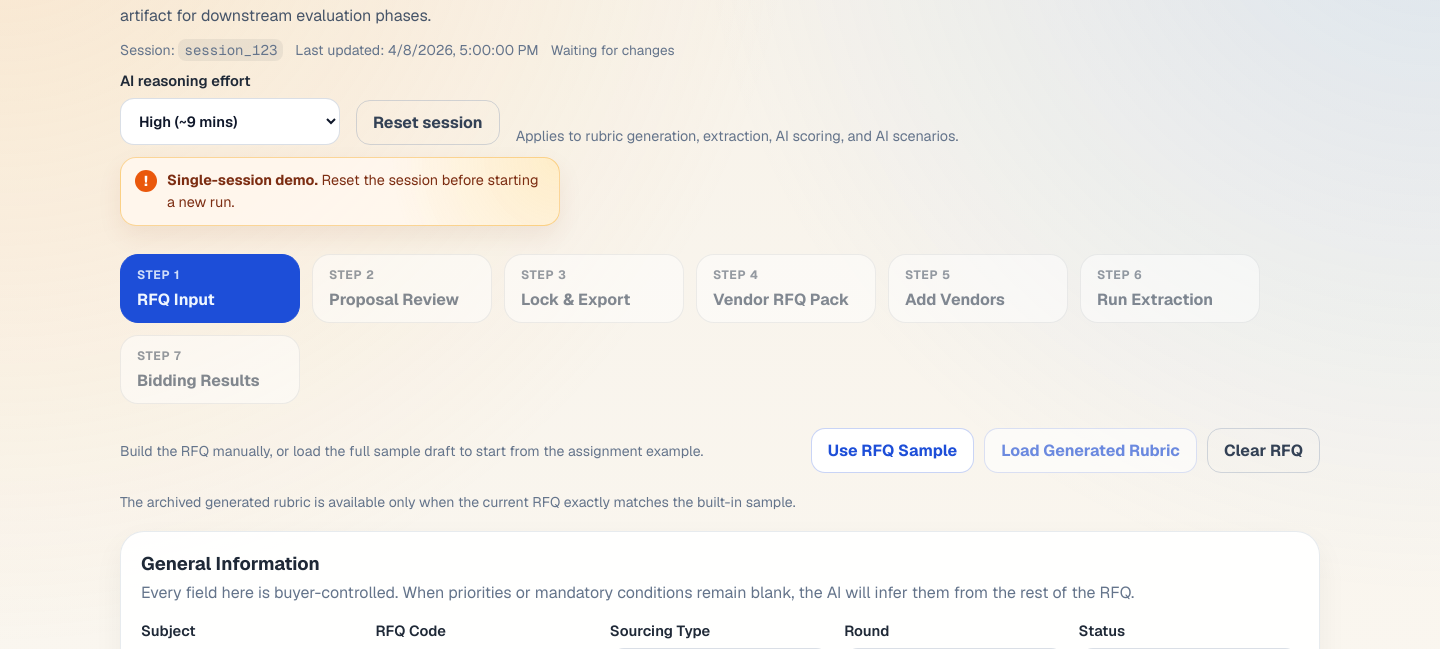
Test case: RfqWizard › loads the full sample RFQ into the session when requested
The image size is (1440, 649).
Click the button "Use RFQ Sample" at (893, 451), box [811,428,974,473]
(page scrolled)
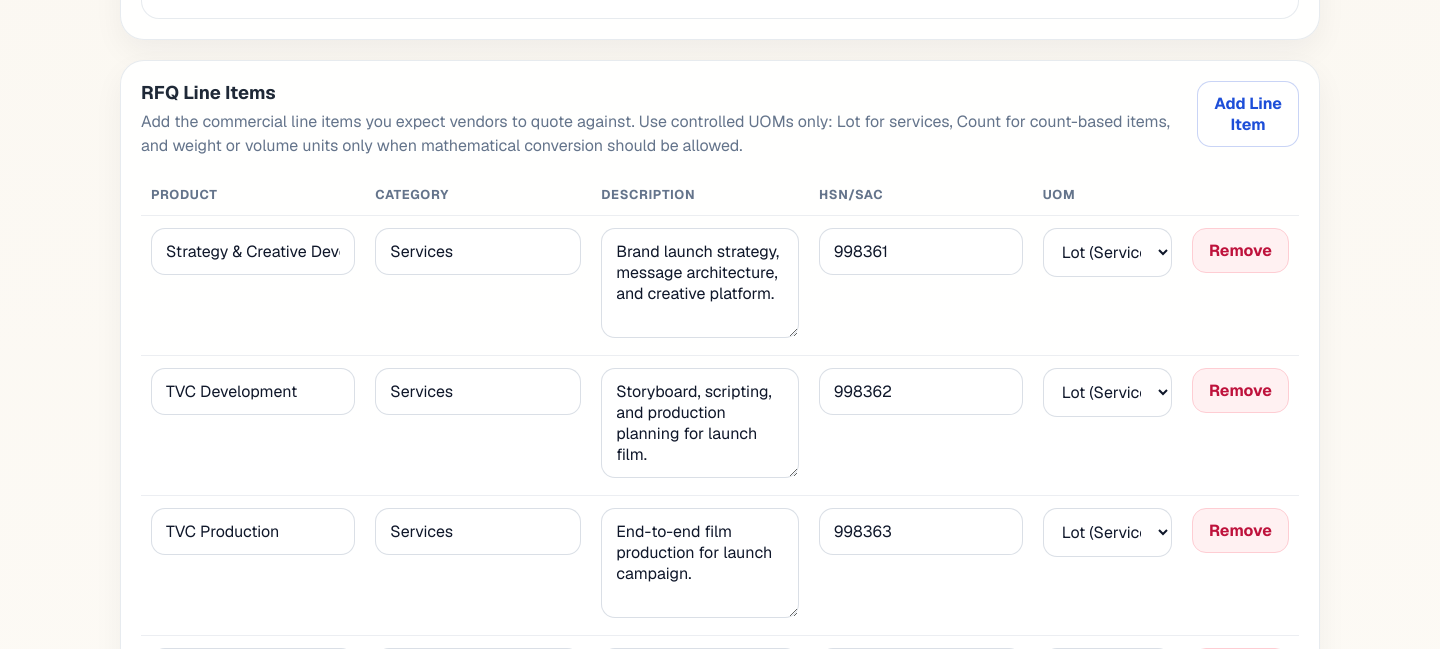
Result: the 1st field showing "Strategy & Creative Development" is shown at [151,228,355,275]
